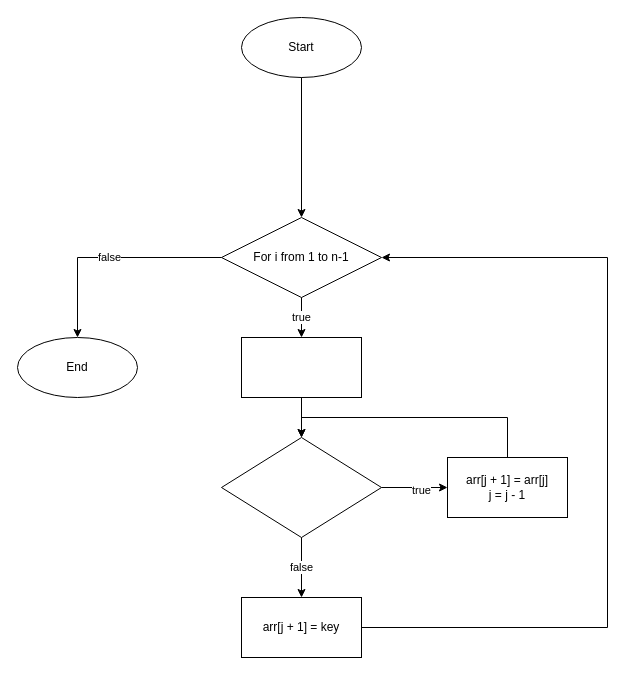
The diagram is 633 pixels wide and 675 high, and some of its shapes have lost their labels. The shapes that lost their labels are listed below. From the top down, each one's centre as x and y in pixels, then its label:
At point 301,367: "key = arr[i] j = i - 1".
At point 301,487: "j >= 0 AND arr[j] > key?".
